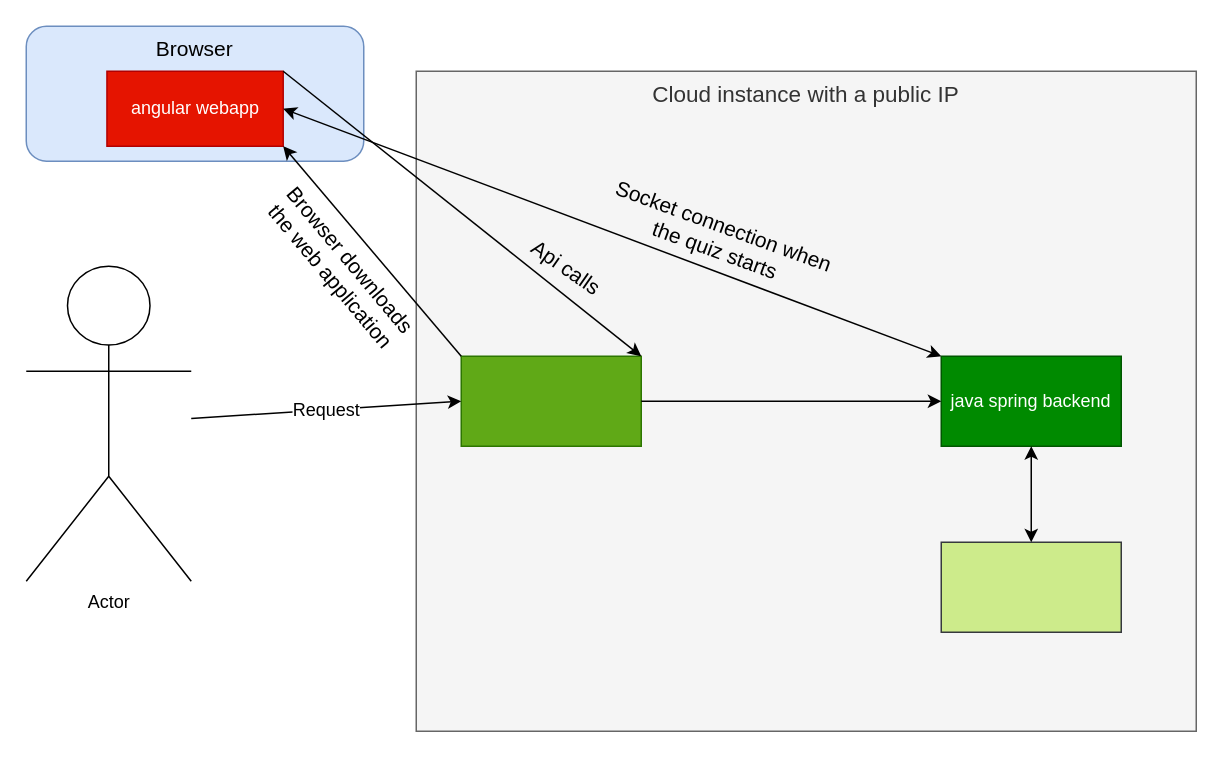
Image size: 1223x758. Some labels were removed from this diagram. The shapes that lost their labels are listed below. From the top down, each one's box as (x1, y1, x2, y2) in pixels, then its label:
(460, 355, 641, 446): nginx
(940, 541, 1121, 632): mongoDB
